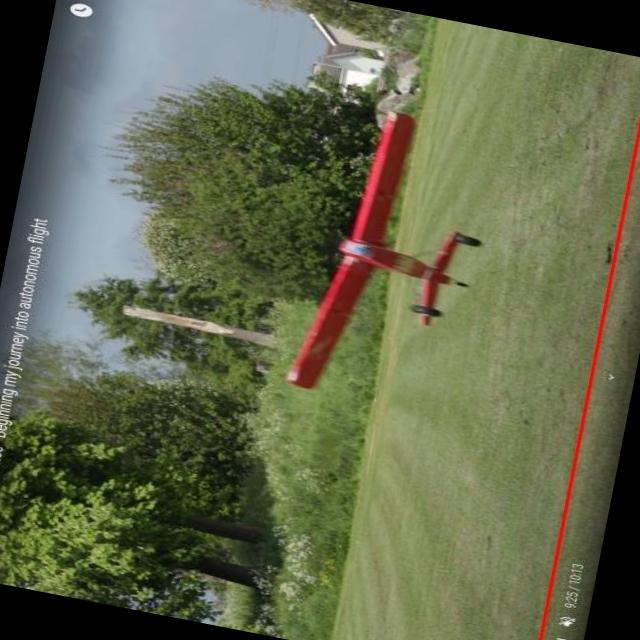UAV: (260, 100, 512, 412)
